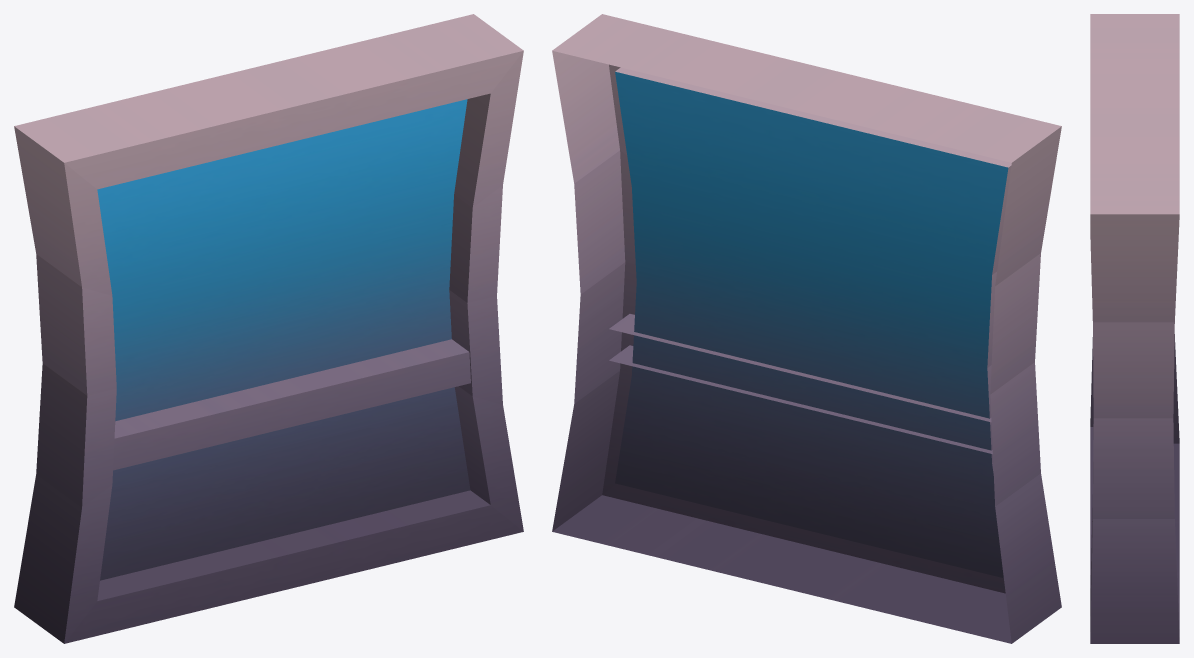
The model's file is Window 4.fbx.
The picture shows the model from 3 angles, left to right: view 1: azimuth 30°, elevation 25°; view 2: azimuth 150°, elevation 25°; view 3: azimuth 270°, elevation 25°; orthographic projection. The views are drawn at different scales.
Parts seen in each view (by area): view 1: Window 4; view 2: Window 4; view 3: Window 4.
Part boxes in pixels (x1,y1,x2,y2): Window 4: (14, 14, 523, 643); Window 4: (552, 14, 1061, 643); Window 4: (1090, 14, 1179, 643).
Size of the model in its own units: 126 by 126 by 23.83.
